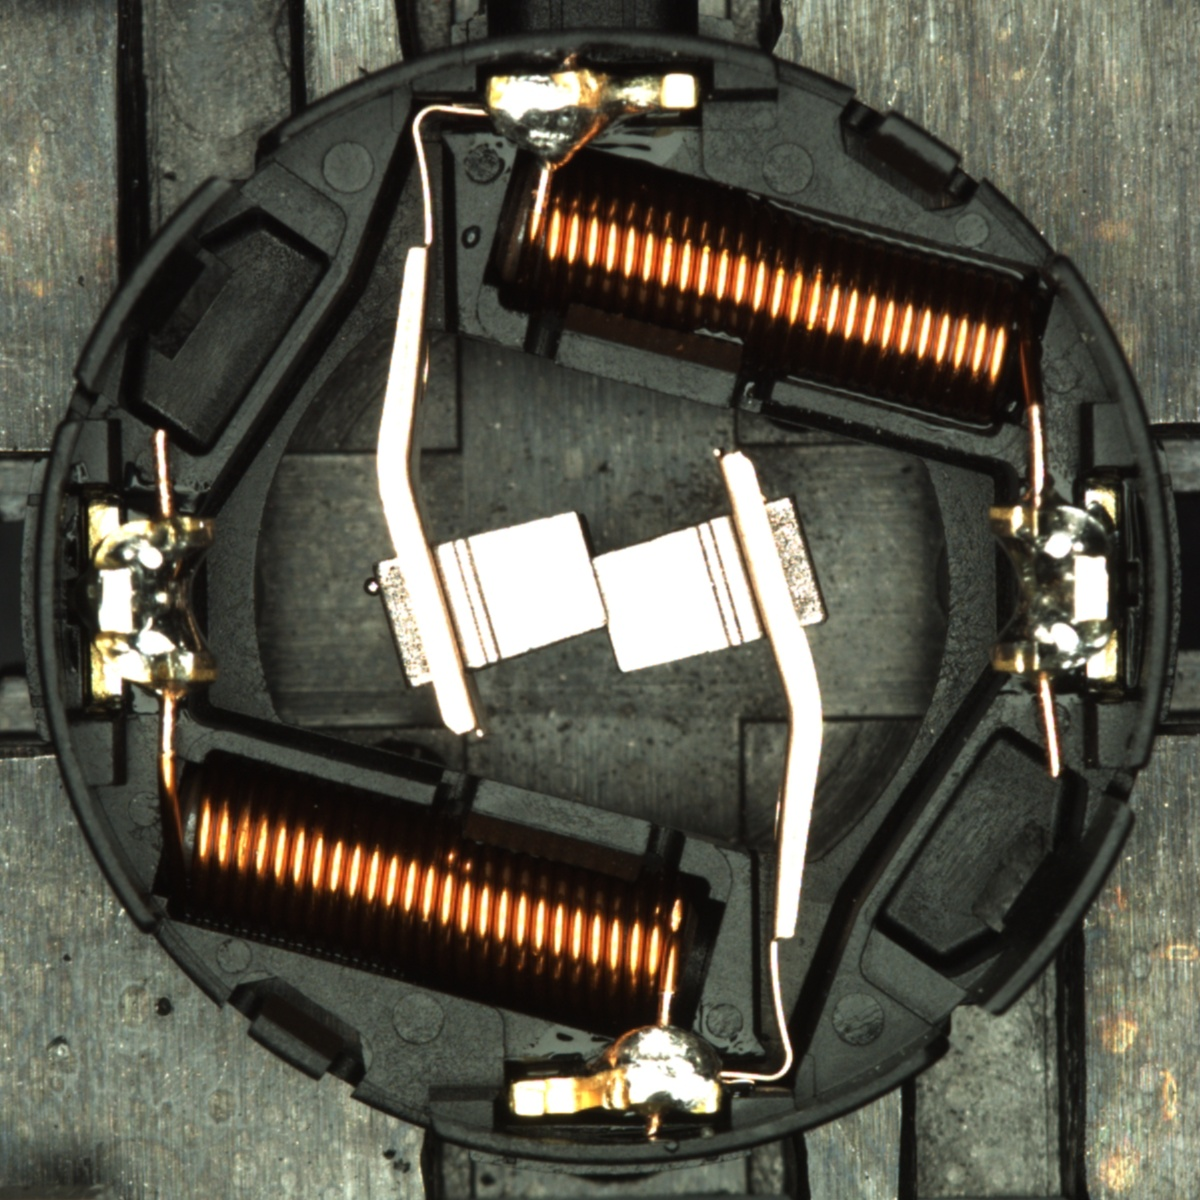1: (713, 928, 942, 1153), (254, 31, 483, 255)
2: (254, 928, 483, 1153), (713, 31, 942, 255)
3: (25, 255, 254, 479), (942, 704, 1171, 928)
4: (254, 255, 483, 479), (713, 704, 942, 928)
5: (483, 143, 713, 367), (483, 816, 713, 1040)
6: (713, 255, 942, 479), (254, 704, 483, 928)
7: (942, 255, 1171, 479), (25, 704, 254, 928)
bui_chi: (363, 577, 382, 597)
cacbon: (398, 498, 798, 685)
chau_dien: (81, 499, 221, 701), (982, 487, 1123, 686)
tay_choi: (485, 67, 702, 171), (507, 1019, 723, 1119)
thanh_de: (955, 785, 1143, 1034), (60, 164, 245, 406)
